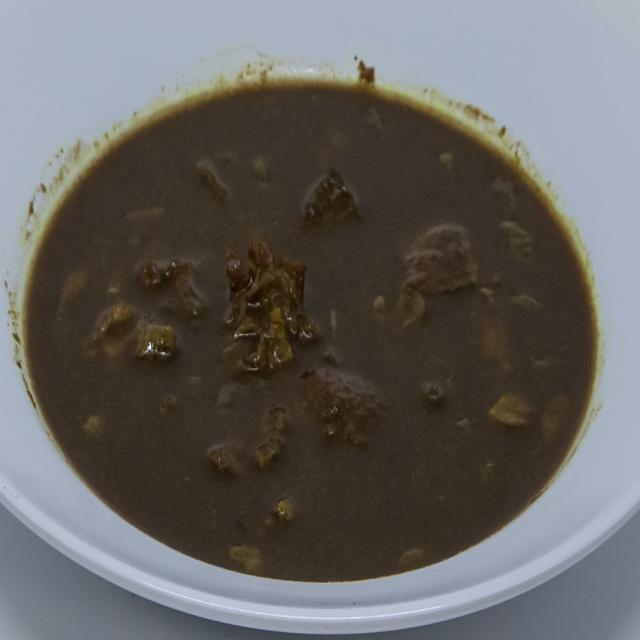Rawon-Surabaya: (12, 55, 604, 603)
